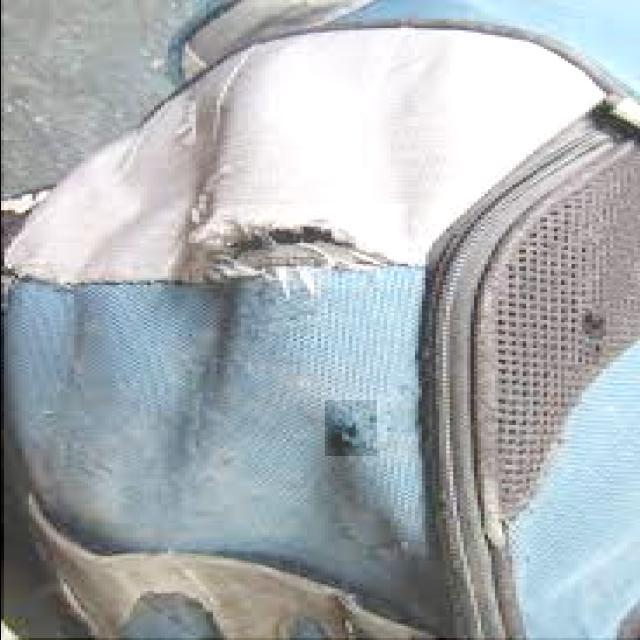Damage-bag: (180, 161, 410, 283), (325, 401, 378, 456), (582, 311, 605, 349)
